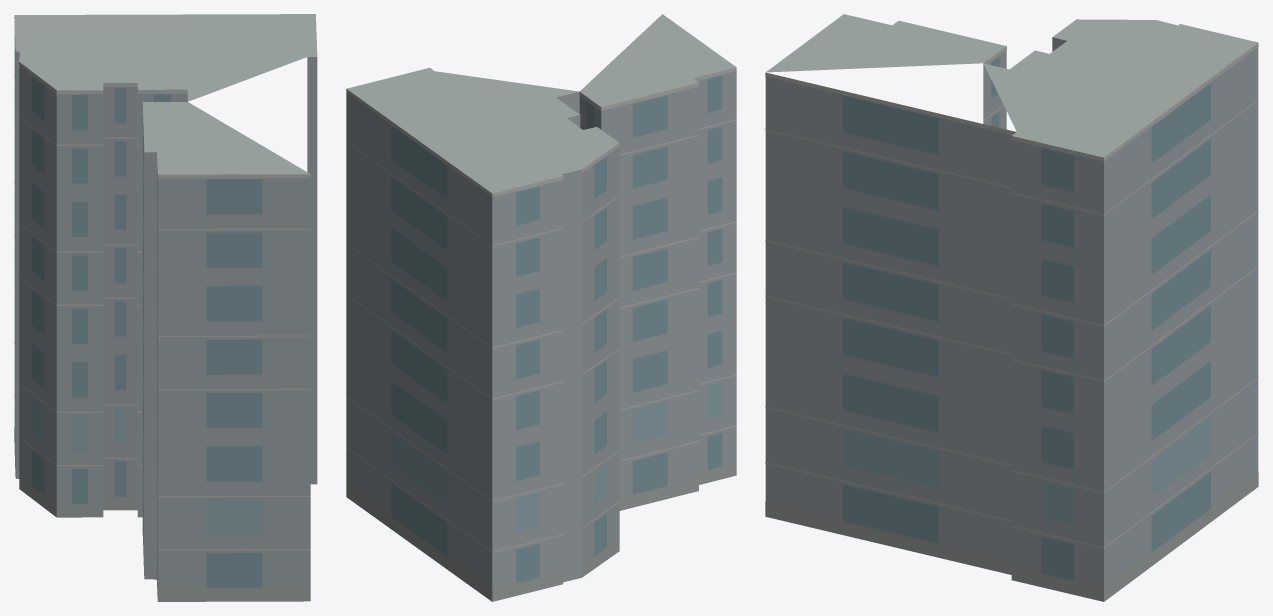
Rendered from survey-upis-32731751.glb.
3 renders of one model, left to right at view 1: azimuth 30°, elevation 25°; view 2: azimuth 150°, elevation 25°; view 3: azimuth 270°, elevation 25°, orthographic. The views are drawn at different scales.
Visible parts, largest first — view 1: survey-upis-32731751.tmp; view 2: survey-upis-32731751.tmp; view 3: survey-upis-32731751.tmp.
Part boxes in pixels (x1,y1,x2,y2): survey-upis-32731751.tmp: [14, 14, 317, 601]; survey-upis-32731751.tmp: [346, 14, 736, 601]; survey-upis-32731751.tmp: [765, 14, 1258, 601].
Bounding box in the file's own units: 18.27 × 26.3 × 26.48.
